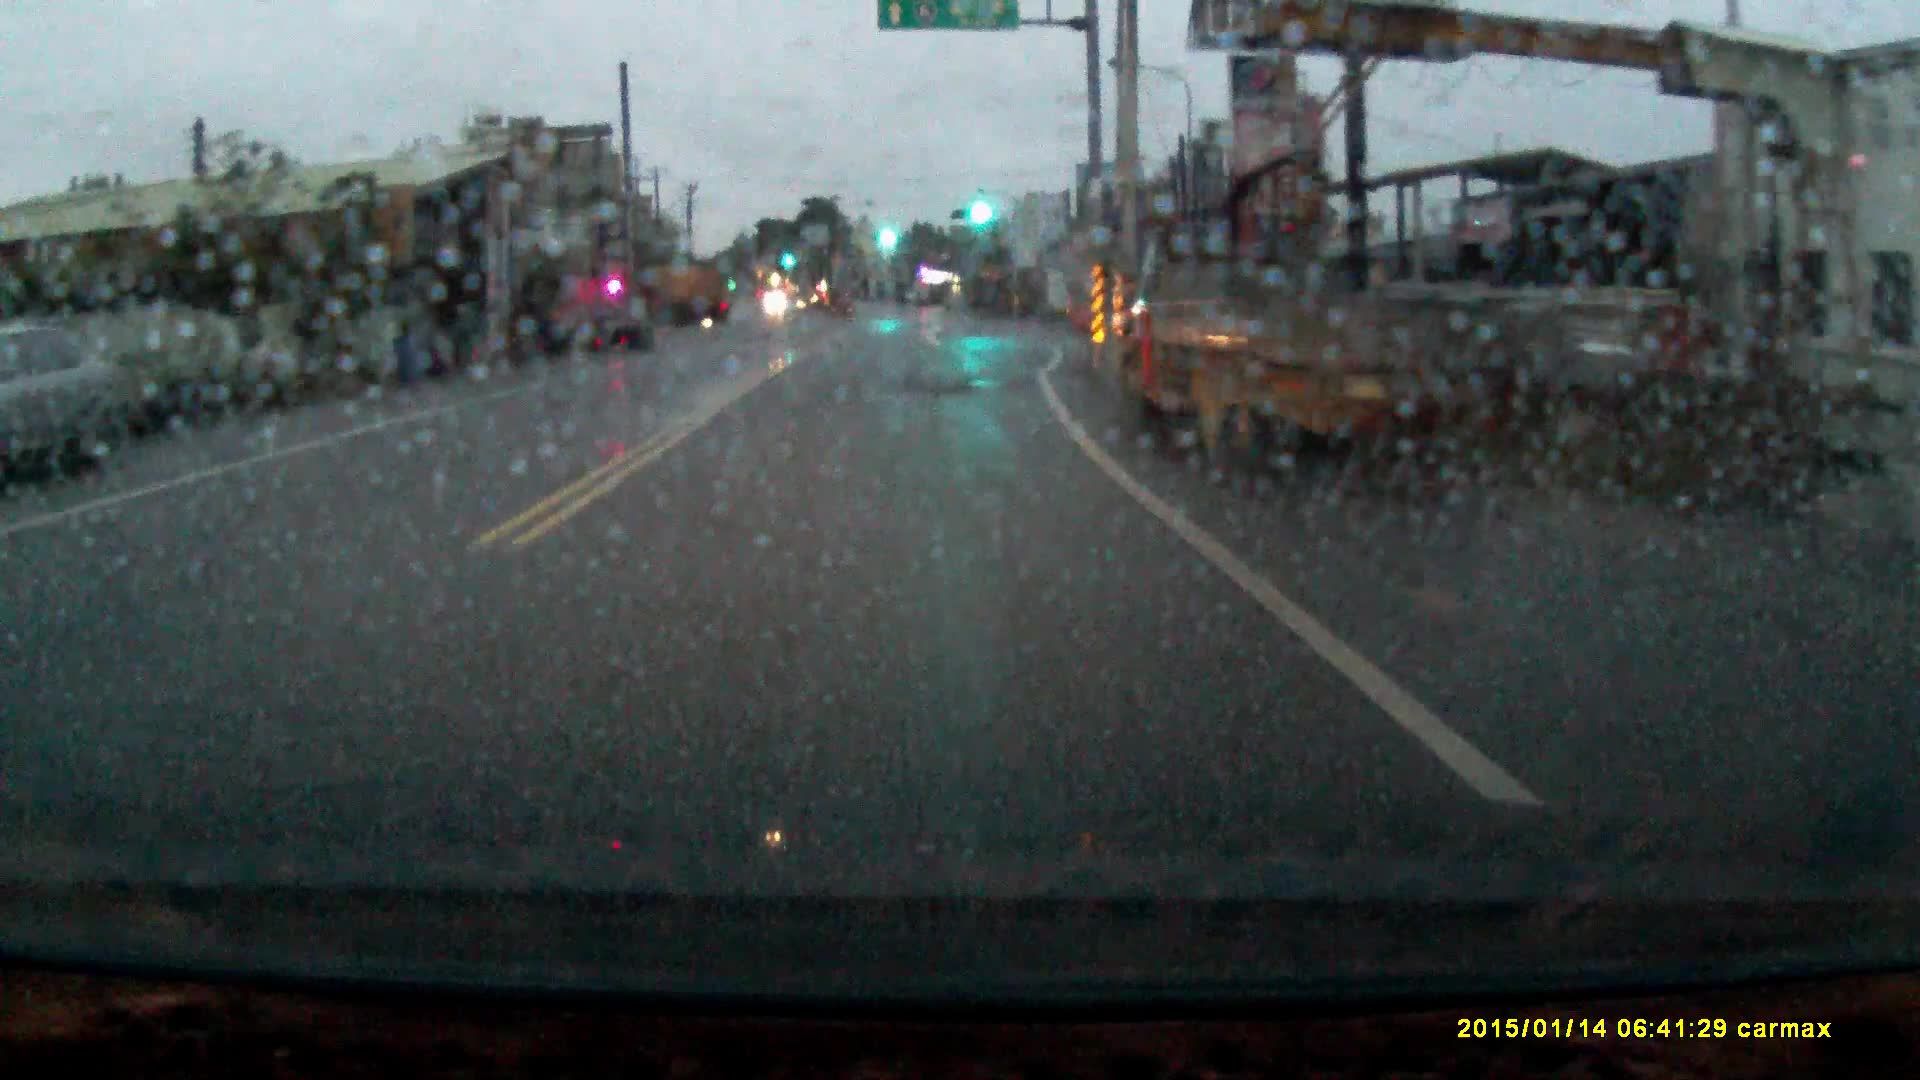vehicle: (1124, 214, 1520, 476), (636, 255, 731, 318)
